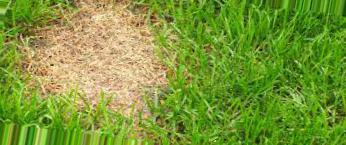patch: (72, 28, 133, 81), (42, 35, 58, 66), (104, 87, 130, 102), (142, 39, 152, 69)
